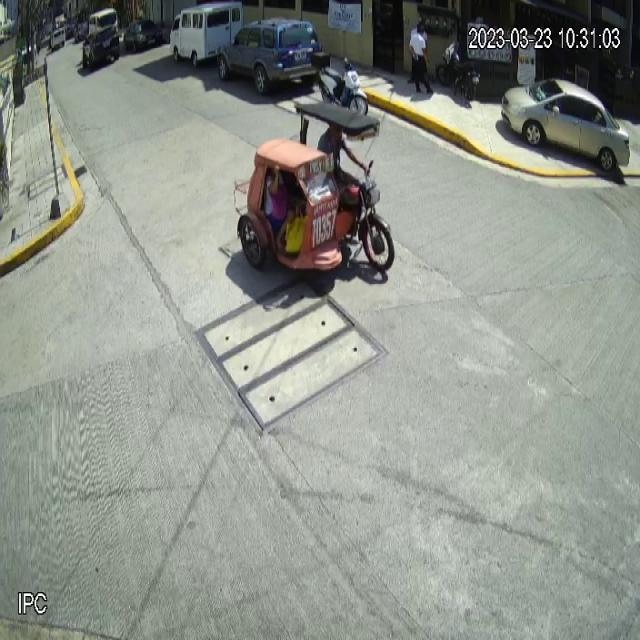Car: (501, 76, 632, 172), (217, 16, 320, 96)
Tricycle: (233, 97, 395, 276)
Van: (170, 2, 247, 63)
